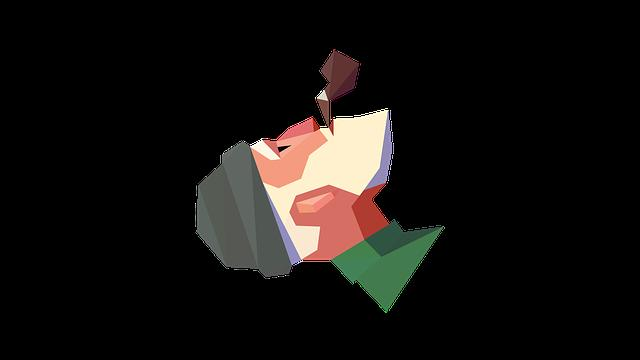Non_Gorille: (173, 0, 443, 360)
